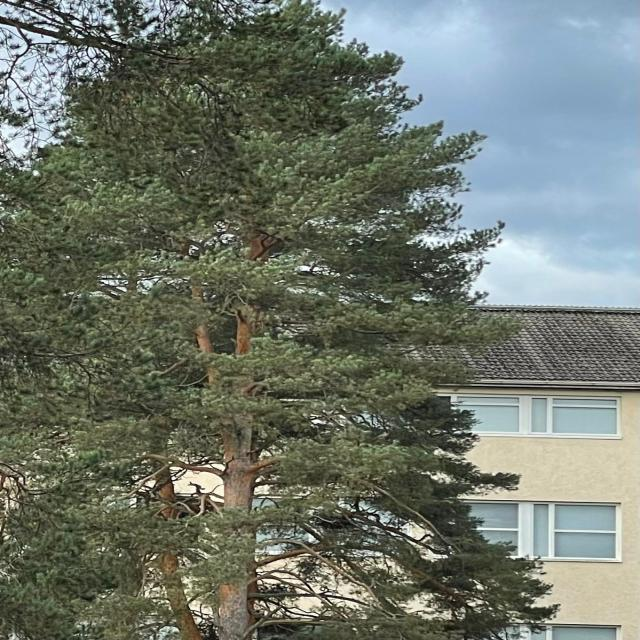pine: (0, 4, 516, 640)
